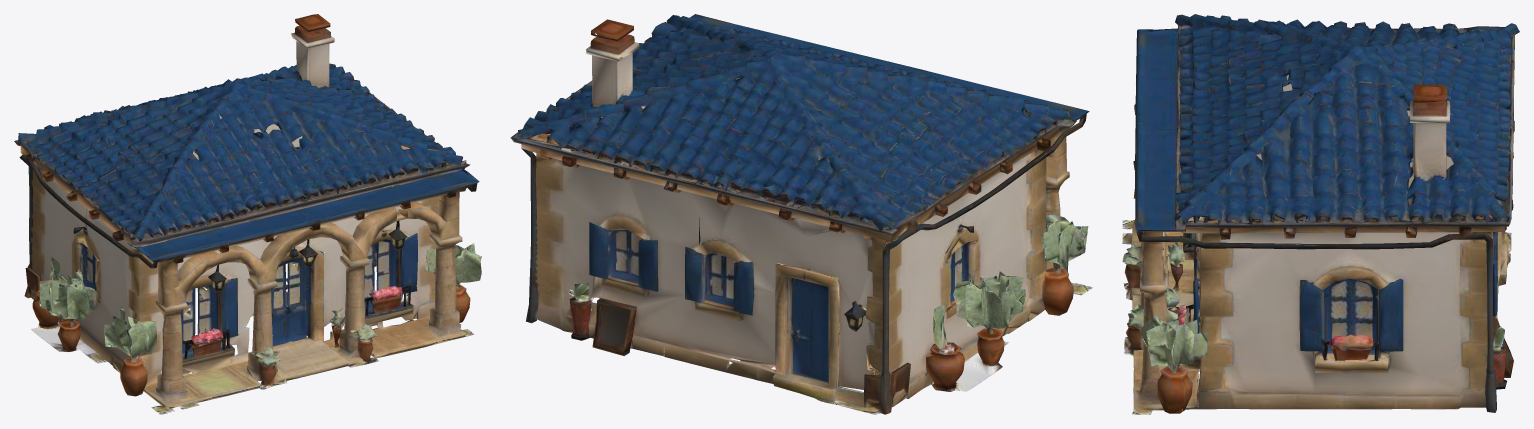
3 renders of one model, left to right at view 1: azimuth 30°, elevation 25°; view 2: azimuth 150°, elevation 25°; view 3: azimuth 270°, elevation 25°, orthographic. The views are drawn at different scales.
Parts seen in each view (by area): view 1: harbor__hotel_1__native_mobile; view 2: harbor__hotel_1__native_mobile; view 3: harbor__hotel_1__native_mobile.
Part boxes in pixels (box(x1,y1,x2,y2)): harbor__hotel_1__native_mobile: box(14, 14, 481, 414); harbor__hotel_1__native_mobile: box(510, 14, 1093, 414); harbor__hotel_1__native_mobile: box(1122, 14, 1519, 414).
Bounding box in the file's own units: 1 × 0.6267 × 0.747.
1 material, 1 textured.
